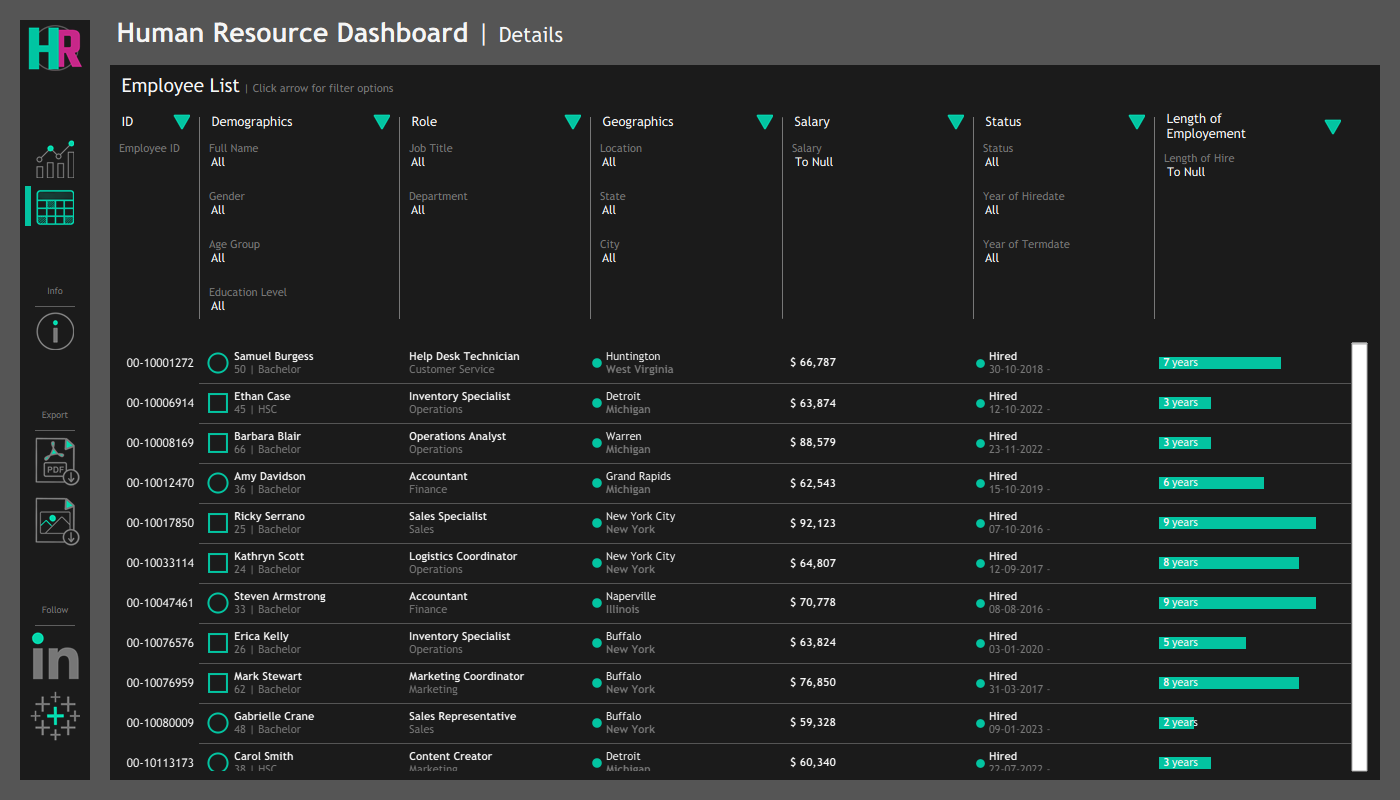

This screenshot's page, from the dashboard's own definition file:
{"tool":"tableau","page":{"name":"HR Details","canvas":[1400,800],"ordinal":0},"visuals":[{"type":"text","box":[110,0,667,65]},{"type":"blank","box":[777,0,603,65]},{"type":"image","param":"Image/Logo.png","box":[20,20,70,55]},{"type":"text","box":[115,70,1260,37]},{"type":"blank","box":[30,85,50,55]},{"type":"text","box":[115,107,54,30]},{"type":"dashboard-object","box":[169,107,25,30]},{"type":"blank","box":[194,107,11,222]},{"type":"text","box":[205,107,164,30]},{"type":"dashboard-object","box":[369,107,25,30]},{"type":"blank","box":[394,107,11,222]},{"type":"text","box":[405,107,155,30]},{"type":"dashboard-object","box":[560,107,25,30]},{"type":"blank","box":[585,107,11,222]},{"type":"text","box":[596,107,156,30]},{"type":"dashboard-object","box":[752,107,25,30]},{"type":"blank","box":[777,107,11,222]},{"type":"text","box":[788,107,155,30]},{"type":"dashboard-object","box":[943,107,25,30]},{"type":"blank","box":[968,107,11,222]},{"type":"text","box":[979,107,145,30]},{"type":"dashboard-object","box":[1124,107,25,30]},{"type":"blank","box":[1149,107,11,222]},{"type":"text","box":[1159.9,107,160,40]},{"type":"dashboard-object","box":[1319.9,107,25,40]},{"type":"filter","title":"Detailed","param":"[federated.0sfk14n02wtbyd1eaoz391fk7nlk].[none:Employee_ID:nk]","box":[115,137,79,70]},{"type":"filter","title":"Detailed","param":"[federated.0sfk14n02wtbyd1eaoz391fk7nlk].[none:Calculation_1918252023829241858:n","box":[205,137,189,48]},{"type":"filter","title":"Detailed","param":"[federated.0sfk14n02wtbyd1eaoz391fk7nlk].[none:Job Title:nk]","box":[405,137,180,48]},{"type":"filter","title":"Detailed","param":"[federated.0sfk14n02wtbyd1eaoz391fk7nlk].[none:Calculation_159033418383990789:nk","box":[596,137,181,48]},{"type":"filter","title":"Detailed","param":"[federated.0sfk14n02wtbyd1eaoz391fk7nlk].[sum:Salary:qk]","box":[788,137,180,65]},{"type":"filter","title":"Detailed","param":"[federated.0sfk14n02wtbyd1eaoz391fk7nlk].[none:Calculation_51228502649520130:nk]","box":[979,137,170,48]},{"type":"dashboard-object","box":[30,140,50,38]},{"type":"filter","title":"Detailed","param":"[federated.0sfk14n02wtbyd1eaoz391fk7nlk].[sum:Calculation_1918252023834275845:qk","box":[1159.9,147,185,65]},{"type":"blank","box":[30,178,50,10]},{"type":"filter","title":"Detailed","param":"[federated.0sfk14n02wtbyd1eaoz391fk7nlk].[none:Gender:nk]","box":[205,185,189,48]},{"type":"filter","title":"Detailed","param":"[federated.0sfk14n02wtbyd1eaoz391fk7nlk].[none:Department:nk]","box":[405,185,180,48]},{"type":"filter","title":"Detailed","param":"[federated.0sfk14n02wtbyd1eaoz391fk7nlk].[none:State:nk]","box":[596,185,181,48]},{"type":"filter","title":"Detailed","param":"[federated.0sfk14n02wtbyd1eaoz391fk7nlk].[yr:Hiredate:ok]","box":[979,185,170,48]},{"type":"blank","box":[25,186,6,40]},{"type":"dashboard-object","box":[30,188,50,38]},{"type":"blank","box":[30,226,50,55]},{"type":"filter","title":"Detailed","param":"[federated.0sfk14n02wtbyd1eaoz391fk7nlk].[none:Calculation_51228502584827905:nk]","box":[205,233,189,48]},{"type":"filter","title":"Detailed","param":"[federated.0sfk14n02wtbyd1eaoz391fk7nlk].[none:City:nk]","box":[596,233,181,48]},{"type":"filter","title":"Detailed","param":"[federated.0sfk14n02wtbyd1eaoz391fk7nlk].[yr:Termdate:ok]","box":[979,233,170,48]},{"type":"text","box":[30,281,50,20]},{"type":"filter","title":"Detailed","param":"[federated.0sfk14n02wtbyd1eaoz391fk7nlk].[none:Education Level:nk]","box":[205,281,189,48]},{"type":"text","box":[89,283,1309,176]},{"type":"blank","box":[30,301,50,11]},{"type":"dashboard-object","box":[30,312,50,38]},{"type":"worksheet","title":"Detailed","mark":"Shape","rows":["Employee_ID"],"cols":["Calculation_1918252023828635649","Calculation_1918252023828635649","Calculation_1918252023828635649","Calculation_1918252023828635649","Calculation_1918252023833526276","Calculation_1918252023834275845"],"box":[115,339,1260,436]},{"type":"blank","box":[30,350,50,55]},{"type":"text","box":[30,405,50,20]},{"type":"blank","box":[30,425,50,11]},{"type":"dashboard-object","box":[30,436,50,50]},{"type":"blank","box":[30,486,50,10]},{"type":"dashboard-object","box":[30,496,50,50]},{"type":"blank","box":[30,546,50,55]},{"type":"text","box":[30,601,50,19]},{"type":"blank","box":[30,620,50,11]},{"type":"image","param":"Image/contact-linkedin.png","box":[30,631,50,50]},{"type":"blank","box":[30,681,50,10]},{"type":"image","param":"Image/contact-public.png","box":[30,691,50,50]}]}

Visuals, with their boxes on the page's 1400x800 design canvas (x1, y1, x2, y2). These are canvas units, not pixel positions in the 1400x800 screenshot, which may show the page scaled, cropped or inside an application window:
text: (x1=110, y1=0, x2=777, y2=65)
blank: (x1=777, y1=0, x2=1380, y2=65)
image: (x1=20, y1=20, x2=90, y2=75)
text: (x1=115, y1=70, x2=1375, y2=107)
blank: (x1=30, y1=85, x2=80, y2=140)
text: (x1=115, y1=107, x2=169, y2=137)
dashboard-object: (x1=169, y1=107, x2=194, y2=137)
blank: (x1=194, y1=107, x2=205, y2=329)
text: (x1=205, y1=107, x2=369, y2=137)
dashboard-object: (x1=369, y1=107, x2=394, y2=137)
blank: (x1=394, y1=107, x2=405, y2=329)
text: (x1=405, y1=107, x2=560, y2=137)
dashboard-object: (x1=560, y1=107, x2=585, y2=137)
blank: (x1=585, y1=107, x2=596, y2=329)
text: (x1=596, y1=107, x2=752, y2=137)
dashboard-object: (x1=752, y1=107, x2=777, y2=137)
blank: (x1=777, y1=107, x2=788, y2=329)
text: (x1=788, y1=107, x2=943, y2=137)
dashboard-object: (x1=943, y1=107, x2=968, y2=137)
blank: (x1=968, y1=107, x2=979, y2=329)
text: (x1=979, y1=107, x2=1124, y2=137)
dashboard-object: (x1=1124, y1=107, x2=1149, y2=137)
blank: (x1=1149, y1=107, x2=1160, y2=329)
text: (x1=1160, y1=107, x2=1320, y2=147)
dashboard-object: (x1=1320, y1=107, x2=1345, y2=147)
"Detailed" filter: (x1=115, y1=137, x2=194, y2=207)
"Detailed" filter: (x1=205, y1=137, x2=394, y2=185)
"Detailed" filter: (x1=405, y1=137, x2=585, y2=185)
"Detailed" filter: (x1=596, y1=137, x2=777, y2=185)
"Detailed" filter: (x1=788, y1=137, x2=968, y2=202)
"Detailed" filter: (x1=979, y1=137, x2=1149, y2=185)
dashboard-object: (x1=30, y1=140, x2=80, y2=178)
"Detailed" filter: (x1=1160, y1=147, x2=1345, y2=212)
blank: (x1=30, y1=178, x2=80, y2=188)
"Detailed" filter: (x1=205, y1=185, x2=394, y2=233)
"Detailed" filter: (x1=405, y1=185, x2=585, y2=233)
"Detailed" filter: (x1=596, y1=185, x2=777, y2=233)
"Detailed" filter: (x1=979, y1=185, x2=1149, y2=233)
blank: (x1=25, y1=186, x2=31, y2=226)
dashboard-object: (x1=30, y1=188, x2=80, y2=226)
blank: (x1=30, y1=226, x2=80, y2=281)
"Detailed" filter: (x1=205, y1=233, x2=394, y2=281)
"Detailed" filter: (x1=596, y1=233, x2=777, y2=281)
"Detailed" filter: (x1=979, y1=233, x2=1149, y2=281)
text: (x1=30, y1=281, x2=80, y2=301)
"Detailed" filter: (x1=205, y1=281, x2=394, y2=329)
text: (x1=89, y1=283, x2=1398, y2=459)
blank: (x1=30, y1=301, x2=80, y2=312)
dashboard-object: (x1=30, y1=312, x2=80, y2=350)
"Detailed" worksheet (Shape marks): (x1=115, y1=339, x2=1375, y2=775)
blank: (x1=30, y1=350, x2=80, y2=405)
text: (x1=30, y1=405, x2=80, y2=425)
blank: (x1=30, y1=425, x2=80, y2=436)
dashboard-object: (x1=30, y1=436, x2=80, y2=486)
blank: (x1=30, y1=486, x2=80, y2=496)
dashboard-object: (x1=30, y1=496, x2=80, y2=546)
blank: (x1=30, y1=546, x2=80, y2=601)
text: (x1=30, y1=601, x2=80, y2=620)
blank: (x1=30, y1=620, x2=80, y2=631)
image: (x1=30, y1=631, x2=80, y2=681)
blank: (x1=30, y1=681, x2=80, y2=691)
image: (x1=30, y1=691, x2=80, y2=741)
